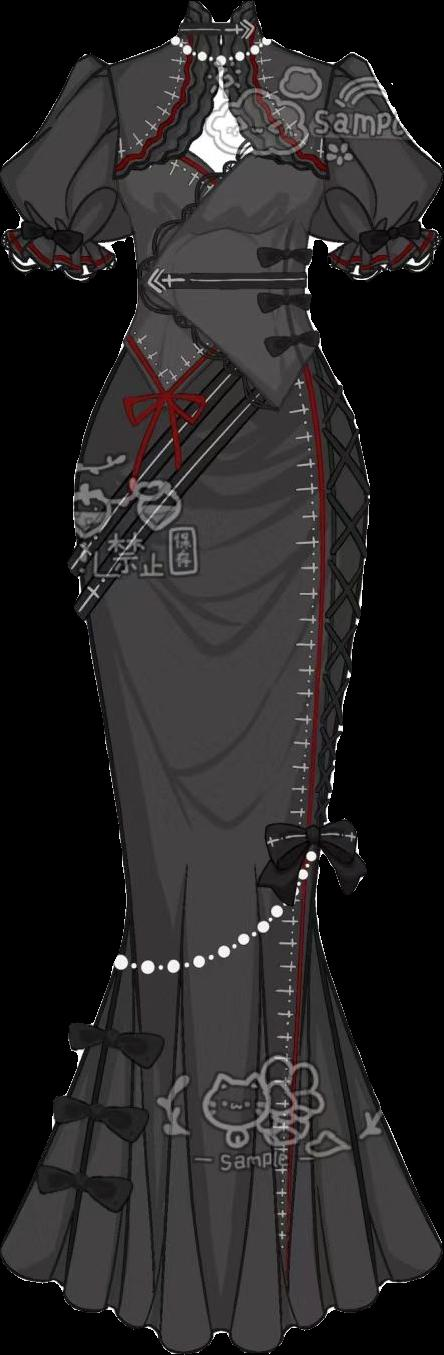Bodice: (108, 0, 337, 413)
Hemline: (0, 1240, 443, 1354)
Neckline: (120, 35, 327, 179), (170, 137, 267, 189), (183, 0, 254, 39)
Skirt: (1, 348, 442, 1351)
Sleeve: (0, 53, 140, 291), (311, 52, 442, 280)
Sleeveline: (300, 57, 349, 239), (100, 65, 142, 229), (18, 215, 114, 259), (325, 210, 429, 249)
Waistline: (115, 337, 332, 426)
